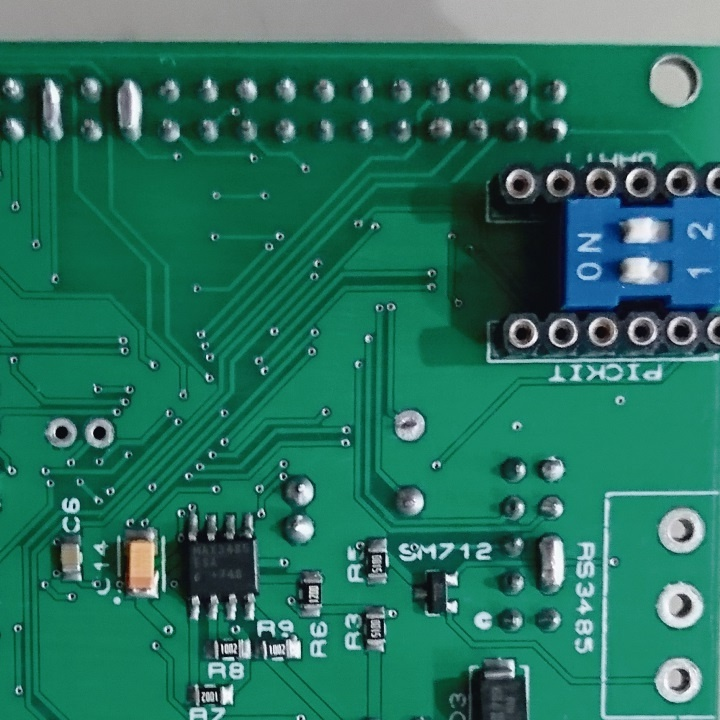F: (653, 578, 707, 632), (655, 503, 708, 557), (651, 653, 704, 704), (390, 407, 429, 444), (42, 414, 78, 451), (84, 415, 119, 452)
P: (112, 73, 147, 146), (533, 529, 569, 598), (36, 72, 67, 146)
